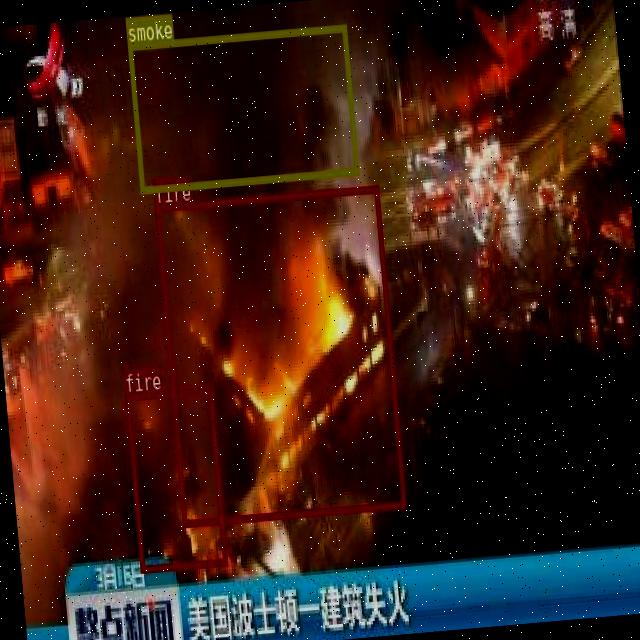fire: (154, 184, 404, 526), (124, 384, 226, 570)
smoke: (126, 23, 358, 193)
